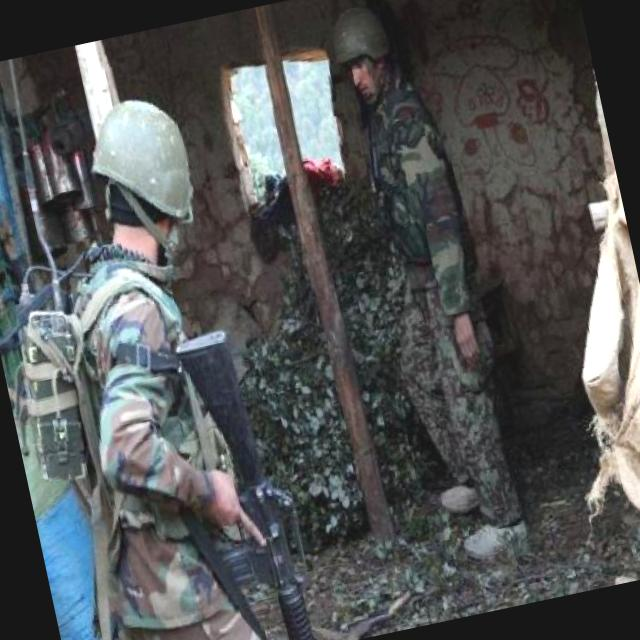Person: (0, 81, 292, 640), (318, 0, 535, 571)
